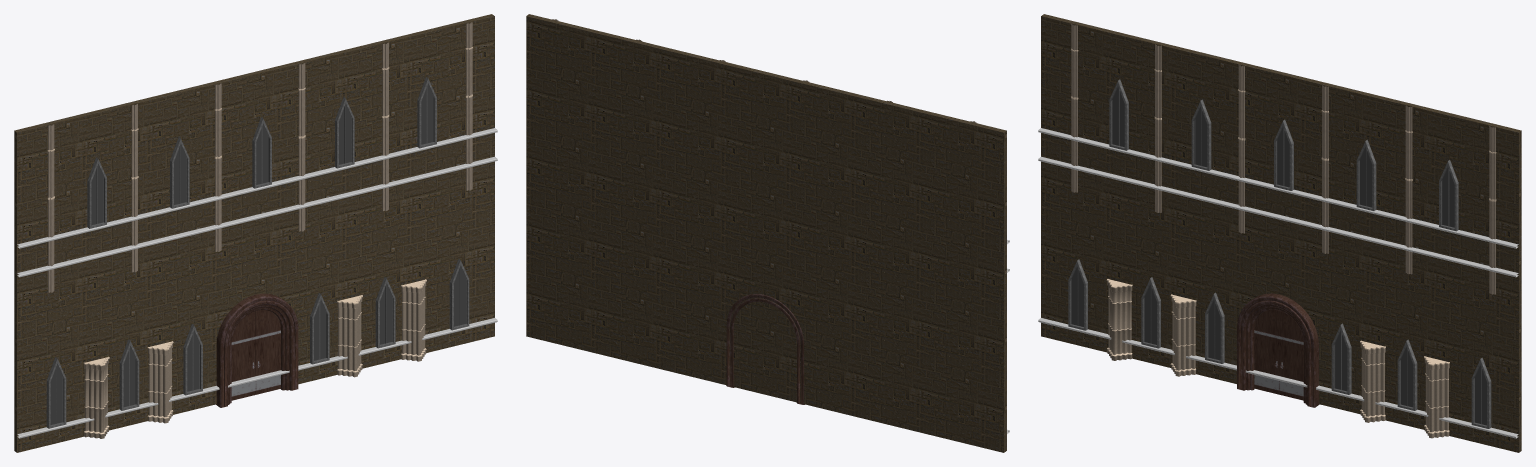
The model's file is BigWall.fbx.
The picture shows the model from 3 angles, left to right: view 1: azimuth 30°, elevation 25°; view 2: azimuth 150°, elevation 25°; view 3: azimuth 330°, elevation 25°; orthographic projection.
Parts seen in each view (by area): view 1: Cube.008, Cylinder.006, Wall_Dec.003, Plane.006, Cube.007, Cube.191, Cube.016, Pillar.004, Pillar.005, Pillar.008, Pillar.009, Plane.009 (+5 smaller); view 2: Cube.008, Cylinder.006; view 3: Cube.008, Cylinder.006, Wall_Dec.003, Plane.006, Cube.007, Cube.191, Cube.016, Pillar.005, Pillar.008, Pillar.009, Pillar.004, Plane.003 (+5 smaller).
Boxes of the visible parts, left/top/right/bottom form: Cube.008: left=14, top=14, right=494, bottom=452; Cylinder.006: left=216, top=293, right=298, bottom=407; Wall_Dec.003: left=47, top=22, right=472, bottom=292; Plane.006: left=87, top=77, right=436, bottom=228; Cube.007: left=17, top=156, right=497, bottom=277; Cube.191: left=17, top=128, right=497, bottom=248; Cube.016: left=17, top=318, right=497, bottom=438; Pillar.004: left=401, top=279, right=426, bottom=361; Pillar.005: left=337, top=295, right=362, bottom=377; Pillar.008: left=147, top=341, right=173, bottom=423; Pillar.009: left=83, top=356, right=109, bottom=438; Plane.009: left=46, top=357, right=66, bottom=428; Cube.008: left=526, top=14, right=1006, bottom=452; Cylinder.006: left=726, top=294, right=804, bottom=404; Cube.008: left=1041, top=14, right=1521, bottom=452; Cylinder.006: left=1237, top=293, right=1319, bottom=407; Wall_Dec.003: left=1071, top=24, right=1496, bottom=294; Plane.006: left=1109, top=79, right=1458, bottom=231; Cube.007: left=1038, top=156, right=1518, bottom=277; Cube.191: left=1038, top=128, right=1518, bottom=248; Cube.016: left=1038, top=318, right=1518, bottom=438; Pillar.005: left=1360, top=340, right=1385, bottom=422; Pillar.008: left=1170, top=294, right=1196, bottom=376; Pillar.009: left=1106, top=279, right=1132, bottom=360; Pillar.004: left=1424, top=356, right=1449, bottom=438; Plane.003: left=1331, top=323, right=1351, bottom=394.
Size of the model in its own units: 2966 by 1905 by 110.
